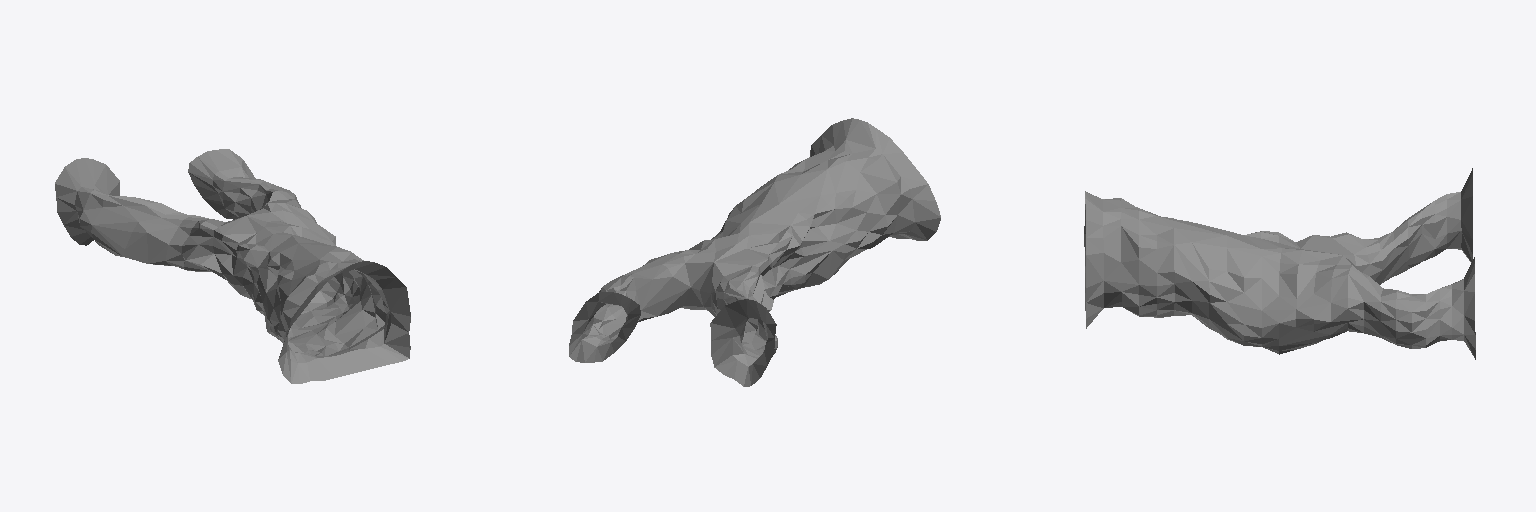
3 renders of one model, left to right at view 1: azimuth 30°, elevation 25°; view 2: azimuth 150°, elevation 25°; view 3: azimuth 270°, elevation 25°, orthographic.
Visible parts, largest first — view 1: Untitled.001_collision-1; view 2: Untitled.001_collision-1; view 3: Untitled.001_collision-1.
Part boxes in pixels (x1,y1,x2,y2): Untitled.001_collision-1: (55, 149, 410, 383); Untitled.001_collision-1: (569, 118, 940, 386); Untitled.001_collision-1: (1084, 168, 1475, 359).
Bounding box in the file's own units: 57.98 × 33.6 × 93.46.